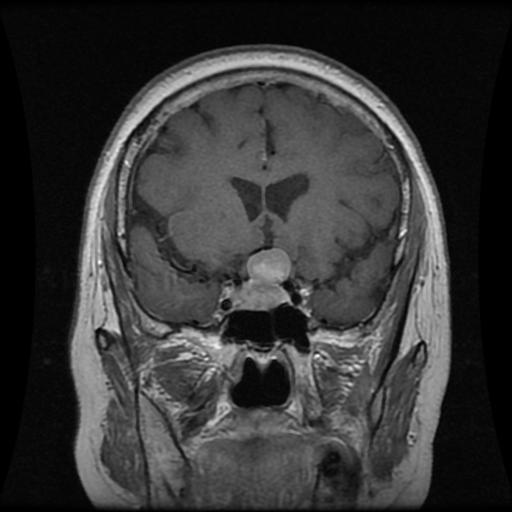Pituirity_tumour: (233, 247, 289, 306)
